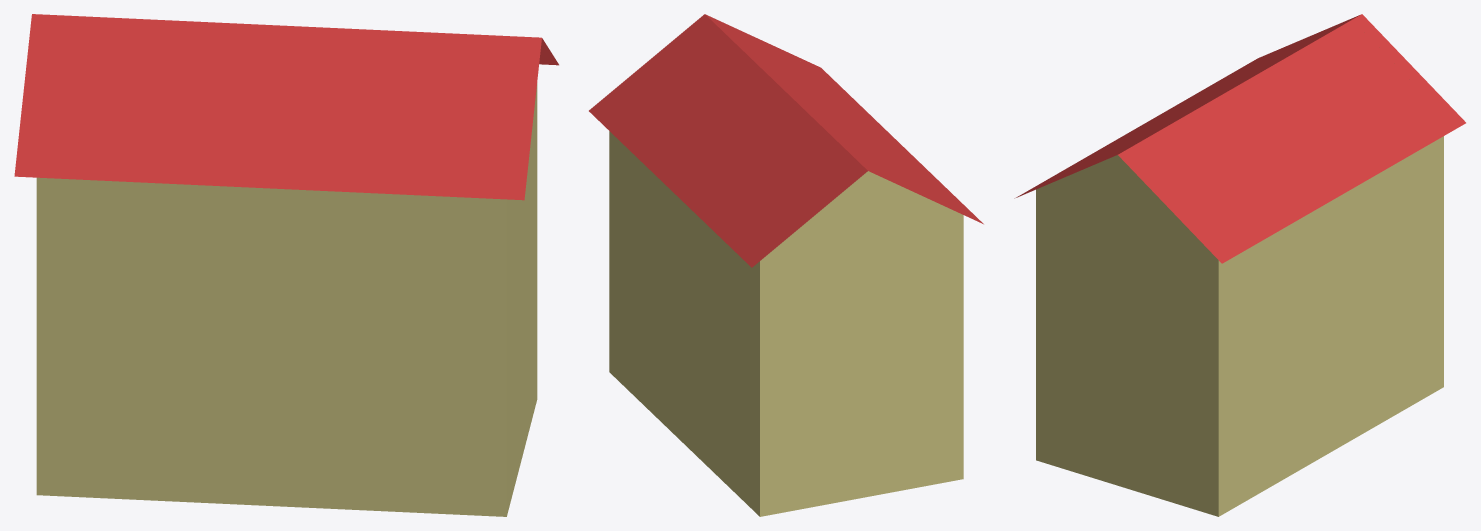
3 views of the same model, side by side, from view 1: azimuth 30°, elevation 25°; view 2: azimuth 150°, elevation 25°; view 3: azimuth 270°, elevation 25° (orthographic). The views are drawn at different scales.
Visible parts, largest first — view 1: group_5, group_3, group_4; view 2: group_5, group_3, group_4; view 3: group_5, group_3, group_4.
Part boxes in pixels (<box>): group_5: <box>36,83,537,516</box>; group_3: <box>14,14,541,200</box>; group_4: <box>14,16,558,200</box>; group_5: <box>609,131,963,516</box>; group_3: <box>589,14,962,267</box>; group_4: <box>674,14,983,267</box>; group_5: <box>1036,136,1443,516</box>; group_3: <box>1037,15,1465,263</box>; group_4: <box>1014,14,1465,198</box>.
Size of the model in its own units: 22.64 by 21.09 by 17.42.
